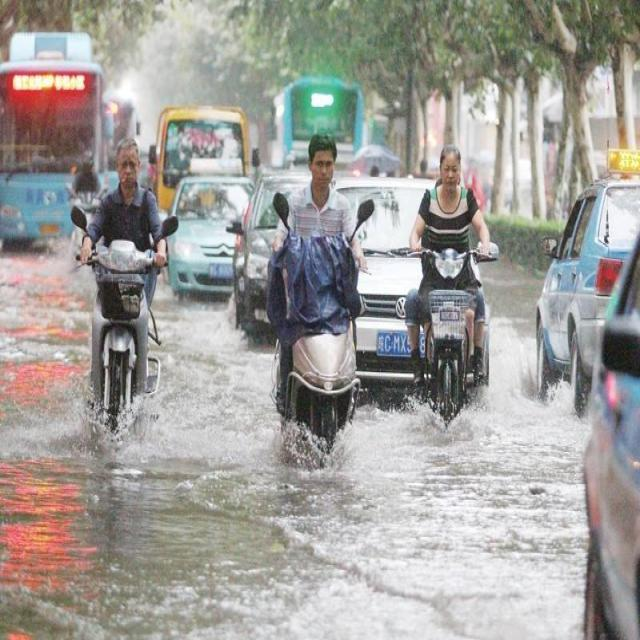car: (534, 146, 640, 399), (582, 233, 638, 638), (226, 170, 332, 336), (150, 103, 260, 237), (165, 174, 258, 304)
